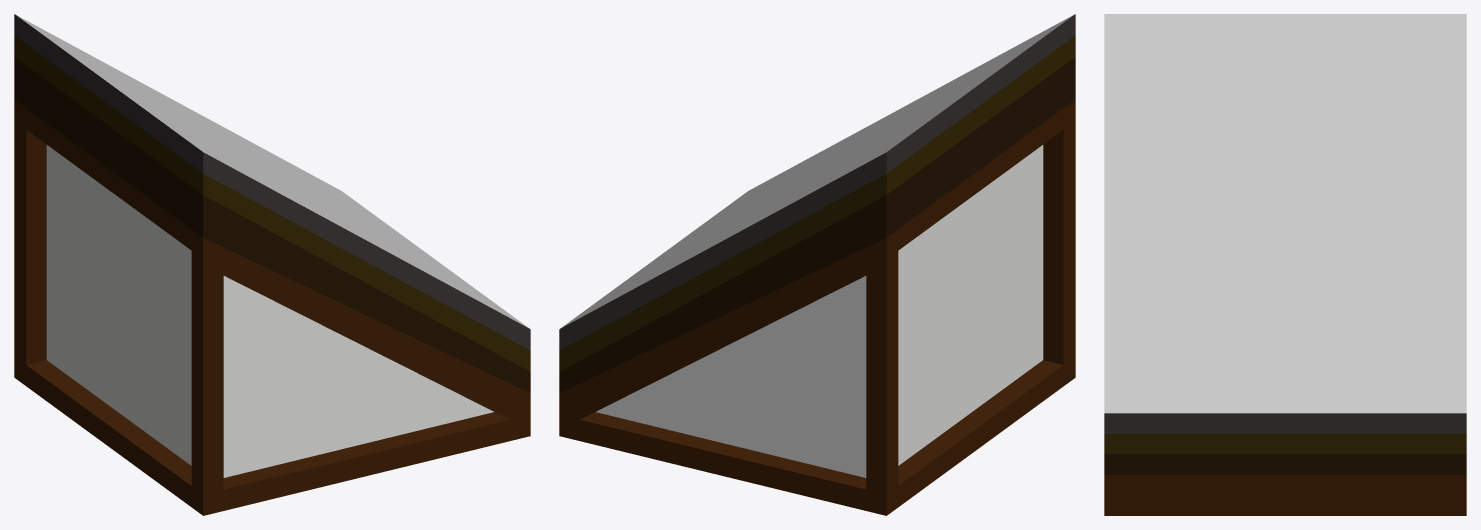
File: model_loc_1604_a.obj
3 views of the same model, side by side, from view 1: azimuth 30°, elevation 25°; view 2: azimuth 150°, elevation 25°; view 3: azimuth 270°, elevation 25° (orthographic). The views are drawn at different scales.
Parts seen in each view (by area): view 1: 2185; view 2: 2185; view 3: 2185.
Part boxes in pixels (left/top/right/bottom): 2185: left=14, top=14, right=530, bottom=515; 2185: left=559, top=14, right=1075, bottom=515; 2185: left=1104, top=14, right=1466, bottom=515.
Bounding box in the file's own units: 128 × 136 × 128.
